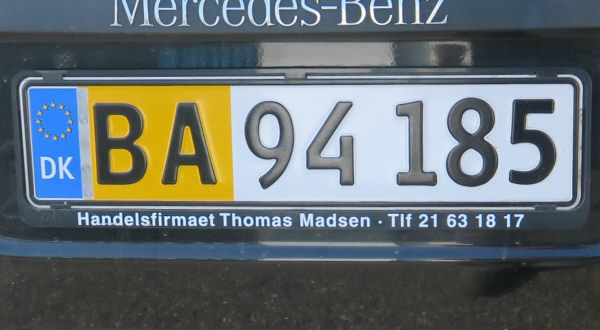license_plate: (19, 77, 582, 212)
